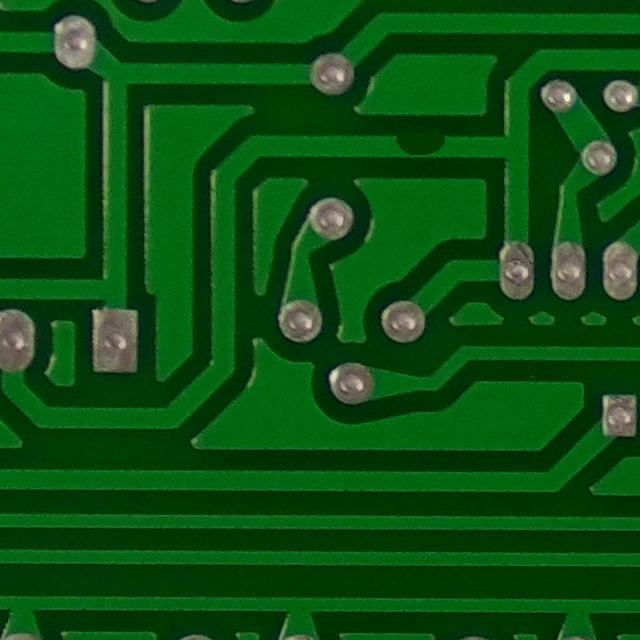mouse_bite: (371, 114, 467, 170)
